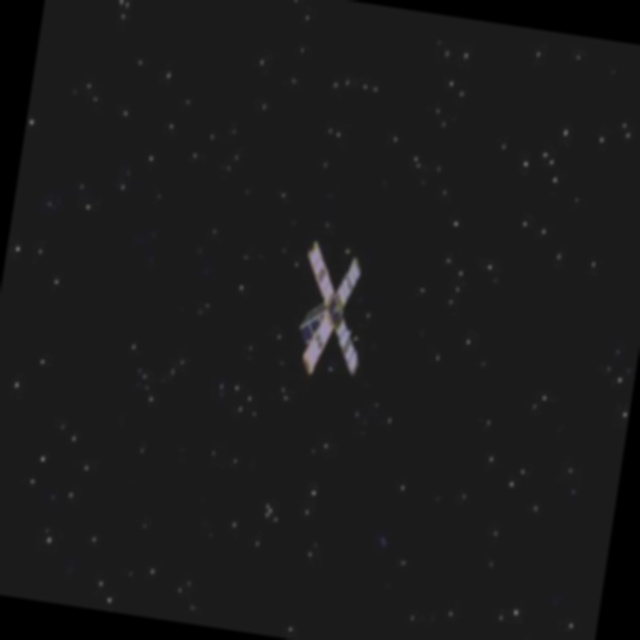medium_debris: (275, 232, 391, 387)
